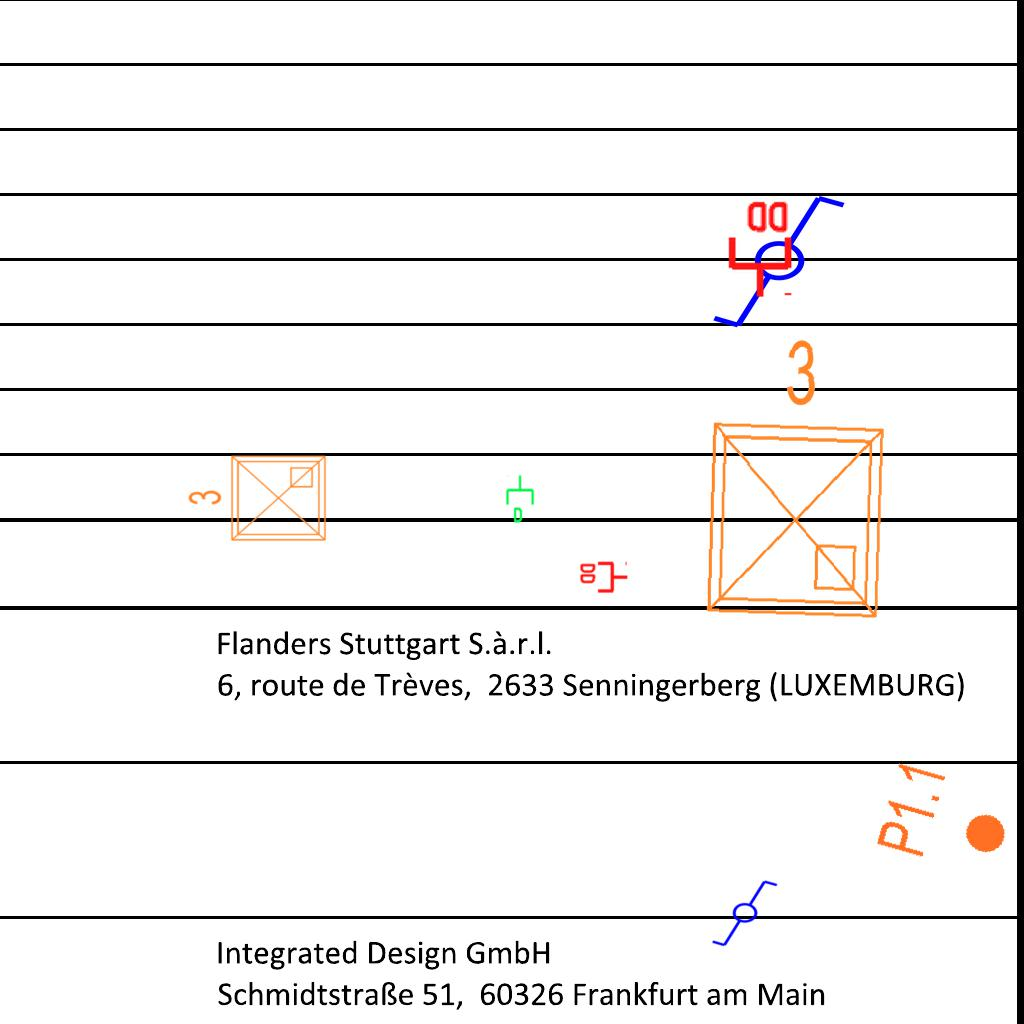Datenanschluss_einfach: (504, 474, 538, 524)
Datenanschluss_zweifach: (724, 197, 793, 300), (578, 561, 629, 595)
Downlight_LED_Einbauleuchten_Flur: (872, 756, 1021, 882)
Einbaudownlights_LED_Konferenzraeume: (683, 325, 903, 633), (183, 448, 333, 552)
Wechselschalter: (709, 191, 866, 335), (710, 878, 788, 950)
